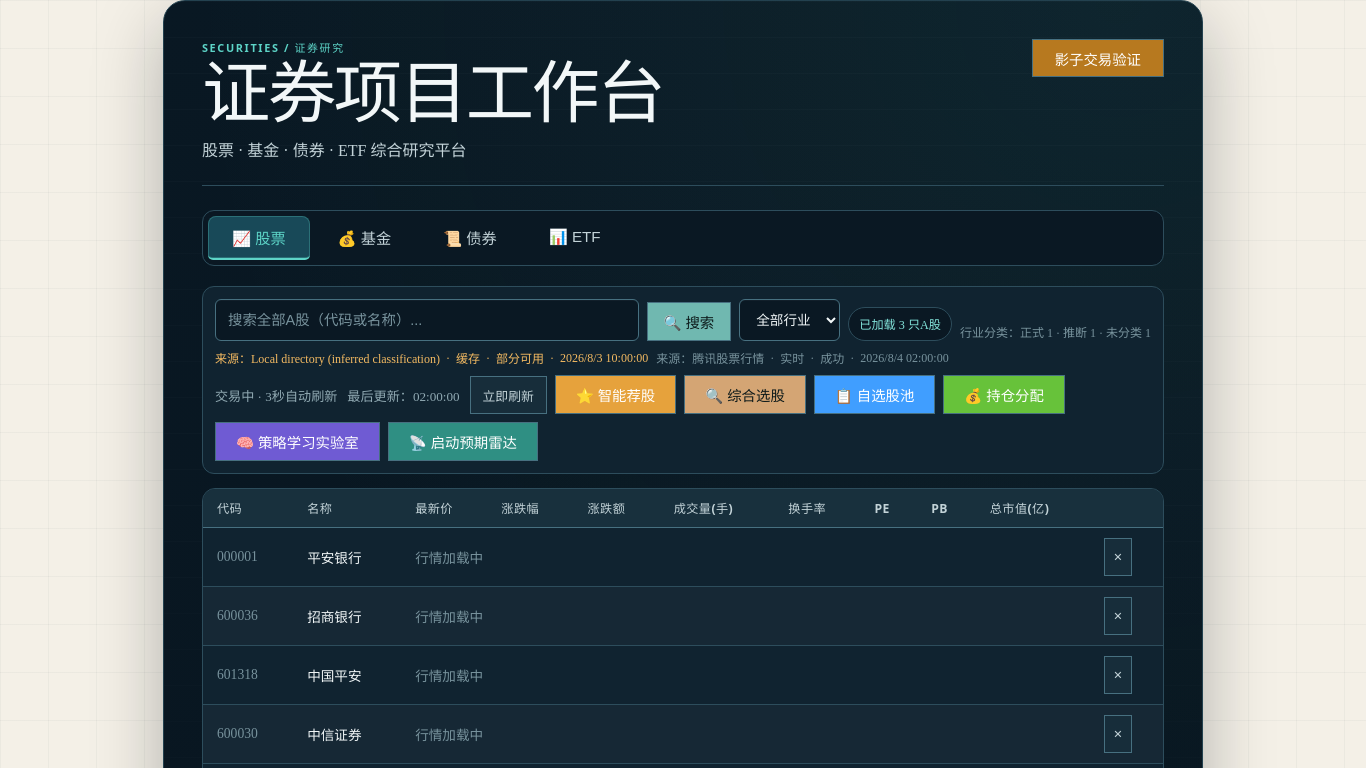
Scenario: SecuritiesWorkbenchPage › shows unavailable convertible-bond derived fields as missing
Step 1. Click the button "📜 债券" → click(470, 238), box [419, 216, 521, 260]
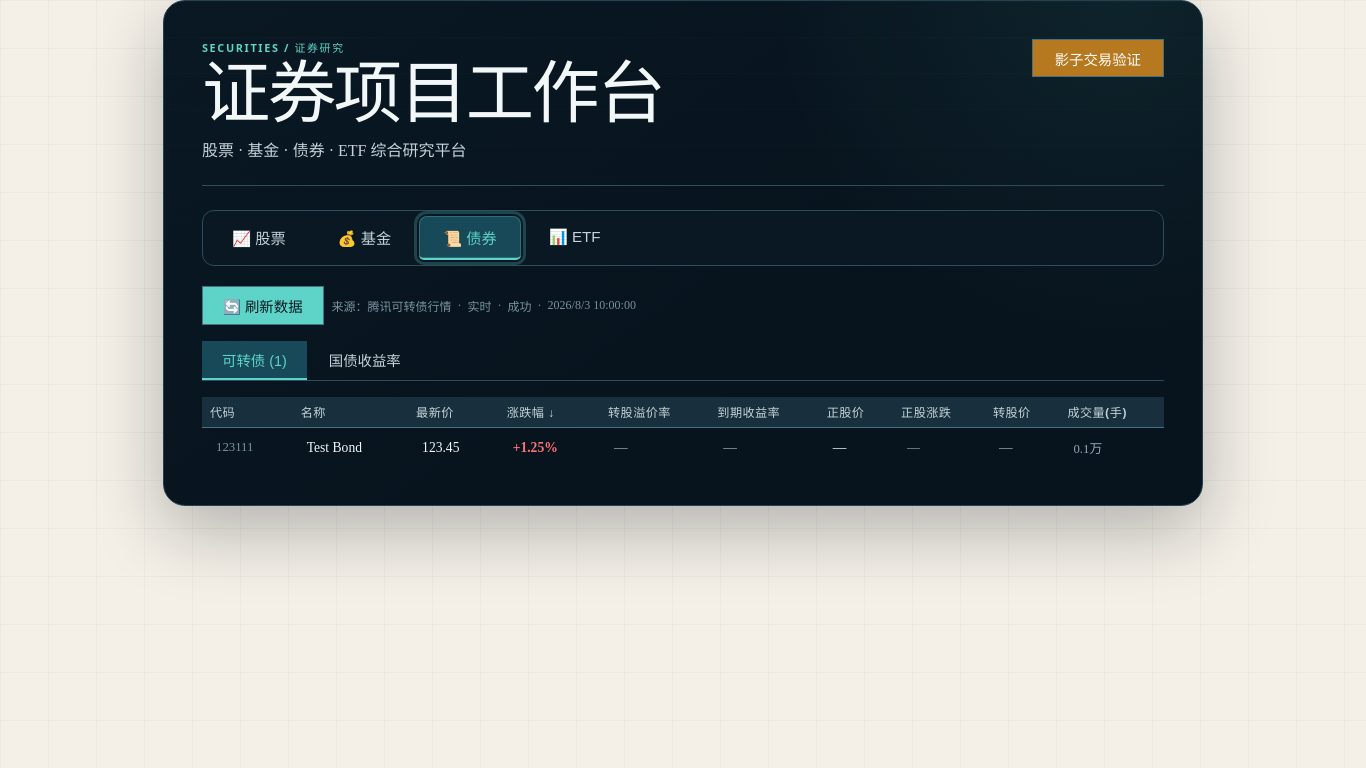
Check: the 1st cell "—" is shown, box [600, 428, 709, 467]
Check: the 2nd cell "—" is shown, box [709, 428, 819, 467]
Check: the 3rd cell "—" is shown, box [819, 428, 893, 467]
